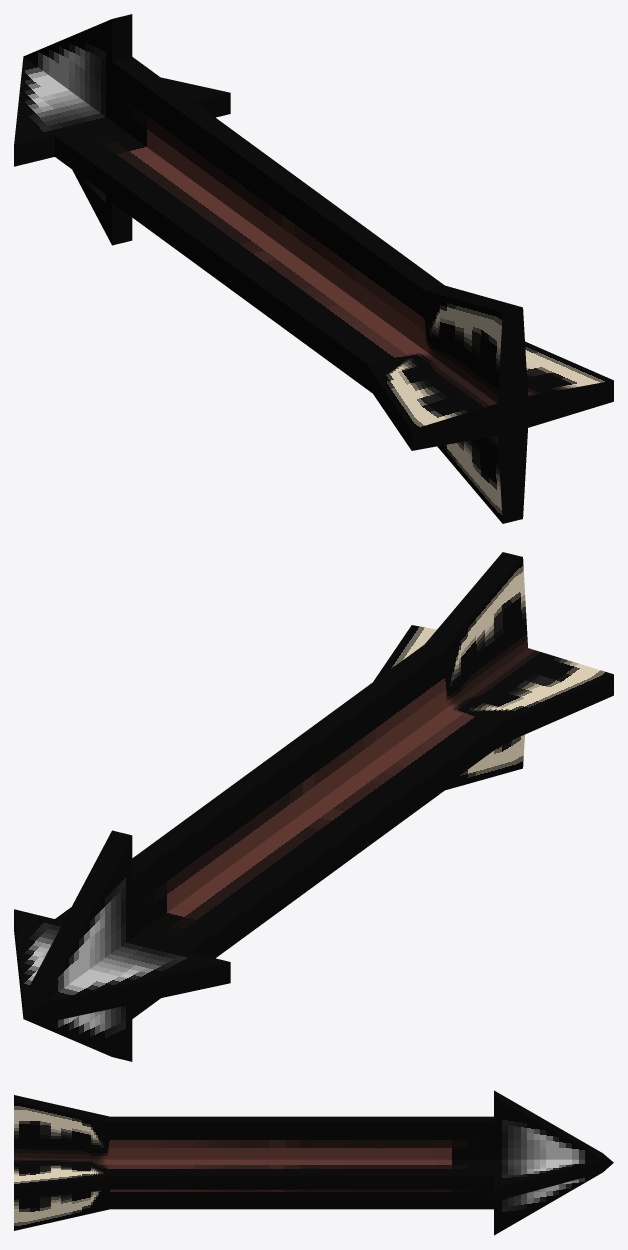
Rendered from Arrow.glb.
3 renders of one model, top to bottom at view 1: azimuth 30°, elevation 25°; view 2: azimuth 150°, elevation 25°; view 3: azimuth 270°, elevation 25°, orthographic. The views are drawn at different scales.
Visible parts, largest first — view 1: Cube.001; view 2: Cube.001; view 3: Cube.001.
Part boxes in pixels (x1=…): Cube.001: x1=14, y1=14, x2=613, y2=523; Cube.001: x1=14, y1=552, x2=613, y2=1061; Cube.001: x1=14, y1=1090, x2=613, y2=1235.
Size of the model in its own units: 0.064 by 0.064 by 0.25.
1 material, 1 textured.
